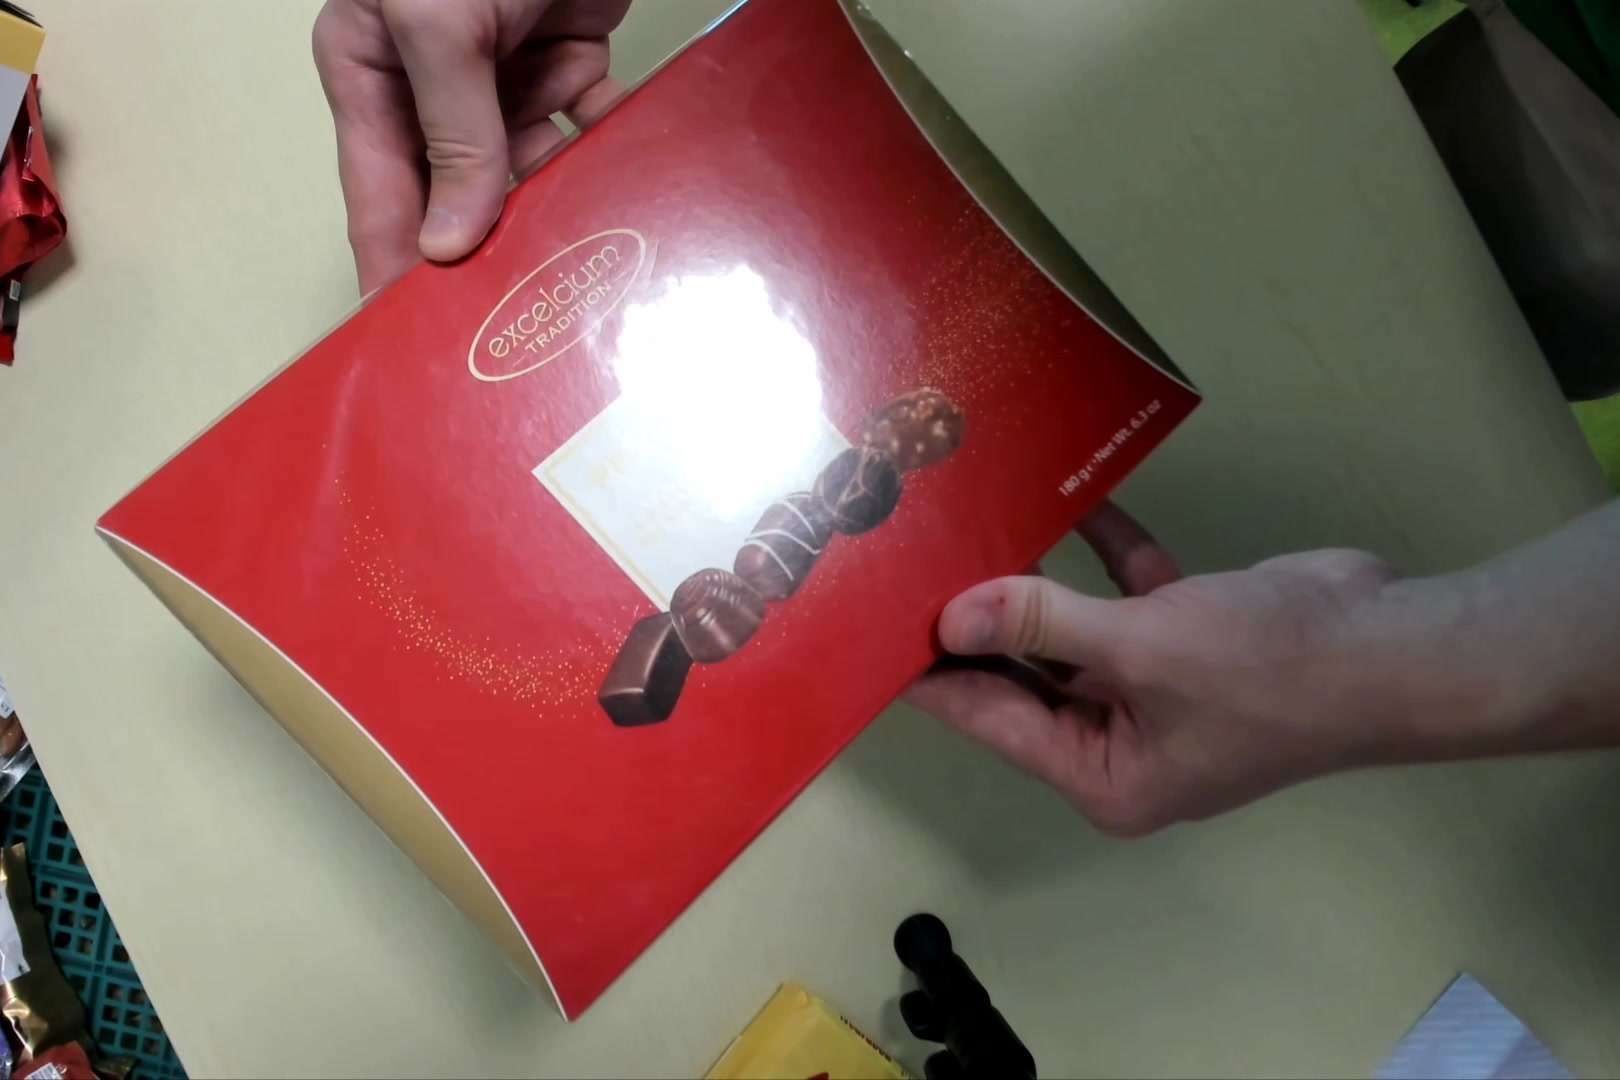SweetsChocolatesOthers_100-199g_NonHalal_NonHealthy: (101, 8, 1198, 1025)
